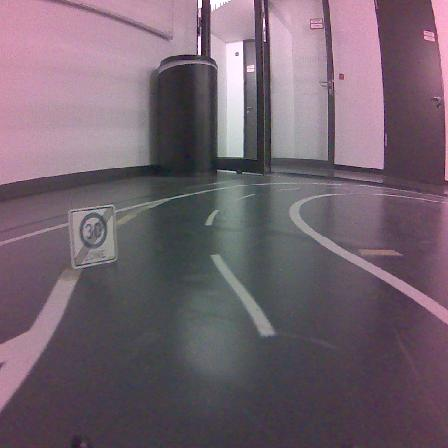30_ZONE_END: (68, 204, 117, 269)
